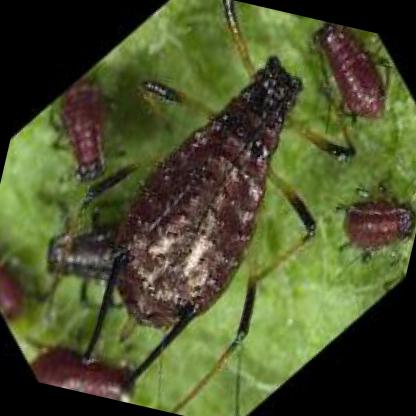uroleucon compositae: (82, 55, 302, 386)
